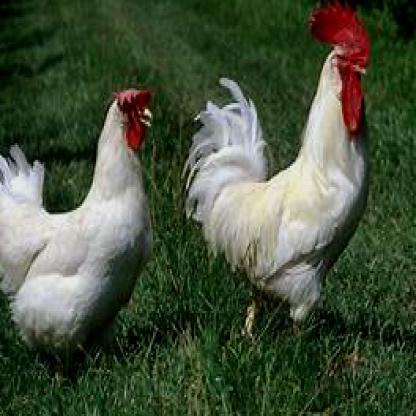chicken: (182, 0, 374, 330), (0, 88, 155, 358)
